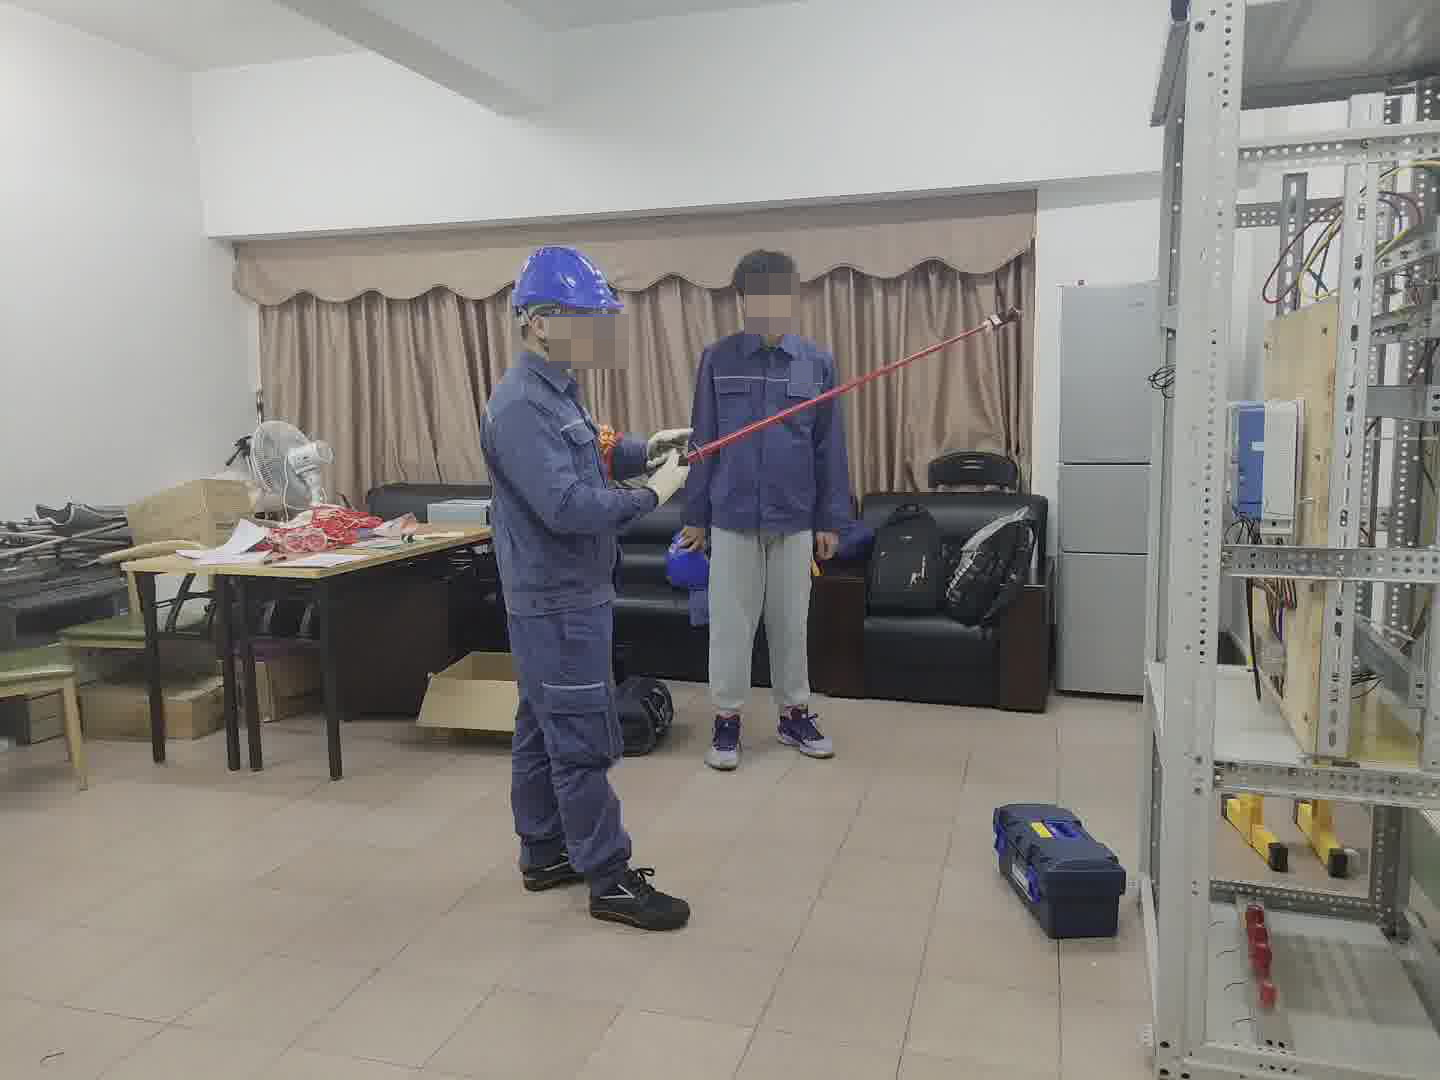badge: (593, 415, 625, 470)
downcloth: (694, 529, 815, 705)
downsuit: (504, 618, 636, 878)
halt: (508, 245, 626, 363)
hand: (817, 524, 845, 558), (679, 522, 704, 550)
inear: (519, 304, 573, 362)
person: (477, 240, 673, 918), (661, 223, 881, 762)
testrod: (671, 302, 1027, 475)
unhalt: (731, 252, 801, 325)
upsuit: (481, 353, 652, 607), (682, 322, 857, 531)
wglove: (638, 420, 693, 460), (651, 458, 687, 503)
